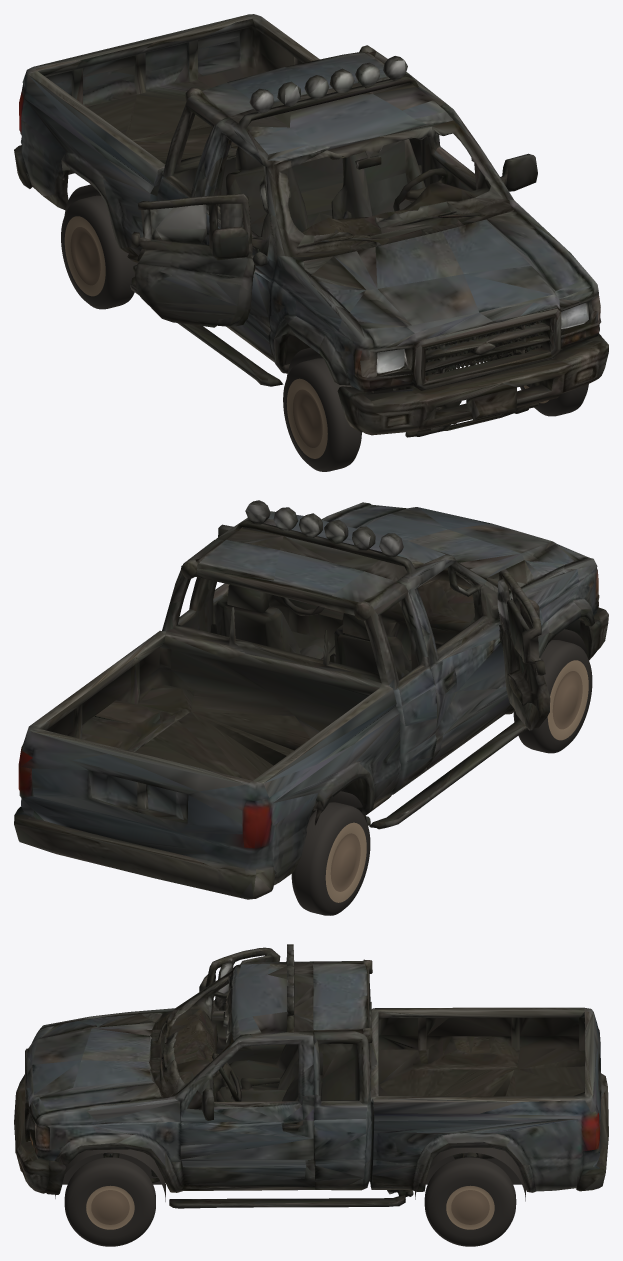
File: VEH_M_DarkRustPickup_Drive.glb
The picture shows the model from 3 angles, top to bottom: view 1: azimuth 30°, elevation 25°; view 2: azimuth 150°, elevation 25°; view 3: azimuth 270°, elevation 25°; orthographic projection. The views are drawn at different scales.
Visible parts, largest first — view 1: VEH_M_DarkRustPickup, Wheel_FR, Wheel_RR, Wheel_FL; view 2: VEH_M_DarkRustPickup, Wheel_RR, Wheel_FR; view 3: VEH_M_DarkRustPickup, Wheel_RL, Wheel_FL, Liner_Wheel_FL, Liner_Wheel_RL.
Part boxes in pixels (box(x1,y1,x2,y2)): VEH_M_DarkRustPickup: box(14, 14, 608, 437); Wheel_FR: box(283, 358, 361, 471); Wheel_RR: box(61, 195, 137, 309); Wheel_FL: box(520, 384, 588, 416); VEH_M_DarkRustPickup: box(14, 500, 608, 899); Wheel_RR: box(291, 802, 370, 915); Wheel_FR: box(513, 640, 592, 753); VEH_M_DarkRustPickup: box(14, 944, 608, 1208); Wheel_RL: box(424, 1157, 516, 1246); Wheel_FL: box(64, 1157, 155, 1246); Liner_Wheel_FL: box(55, 1149, 165, 1201); Liner_Wheel_RL: box(415, 1148, 525, 1201).
Bounding box in the file's own units: 3 × 2.21 × 5.2.
Materials: 4 (1 with a texture image).
